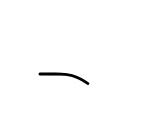minus: (38, 72, 90, 85)
